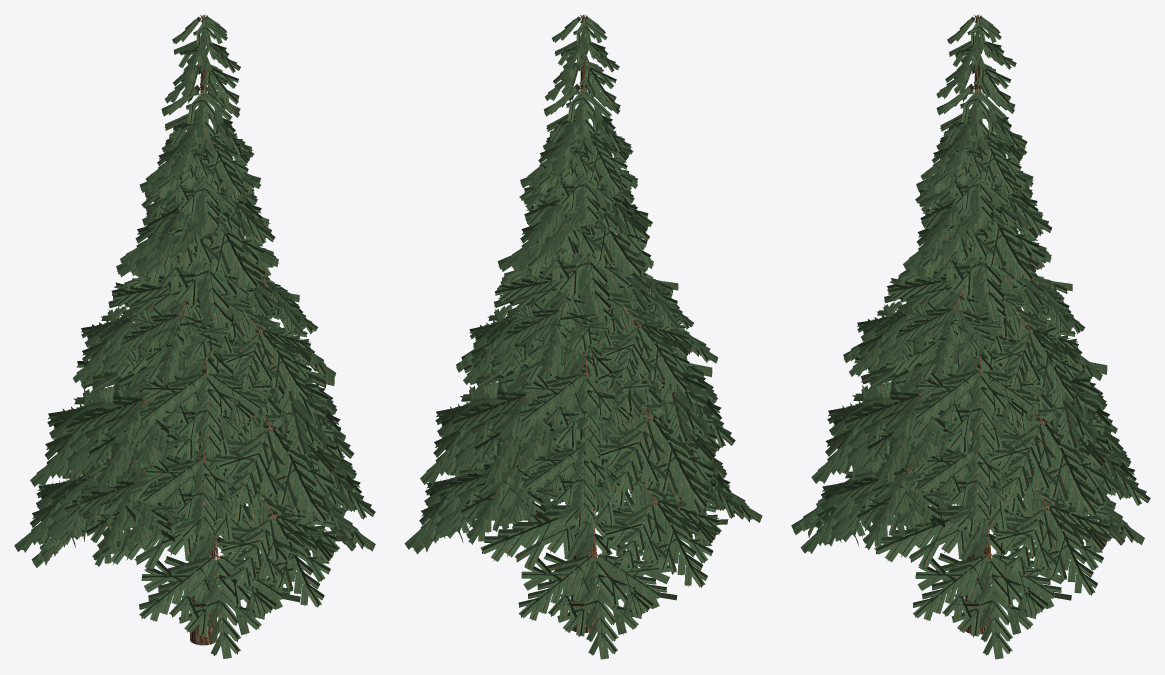
File: firtree1.fbx
The picture shows the model from 3 angles, left to right: view 1: azimuth 30°, elevation 25°; view 2: azimuth 150°, elevation 25°; view 3: azimuth 270°, elevation 25°; orthographic projection.
Visible parts, largest first — view 1: obj1, obj0; view 2: obj1, obj0; view 3: obj1, obj0.
Boxes of the visible parts, x1=… form: obj1: x1=14, y1=14, x2=375, y2=658; obj0: x1=82, y1=15, x2=291, y2=645; obj1: x1=404, y1=14, x2=762, y2=659; obj0: x1=508, y1=15, x2=682, y2=632; obj1: x1=791, y1=14, x2=1150, y2=659; obj0: x1=882, y1=15, x2=1066, y2=634.
Size of the model in its own units: 8.2 by 15.31 by 8.13.
